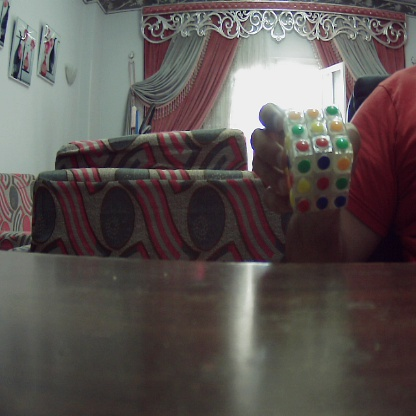Rubix Cube: (281, 110, 350, 212)
